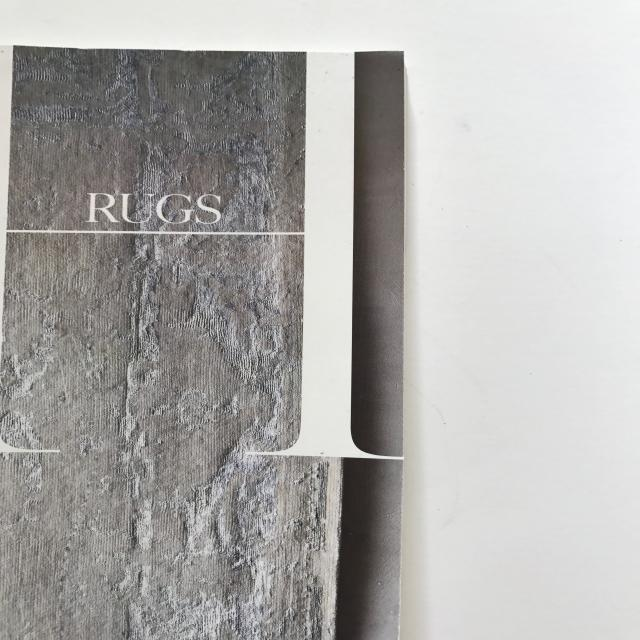paper: (1, 1, 639, 639)
